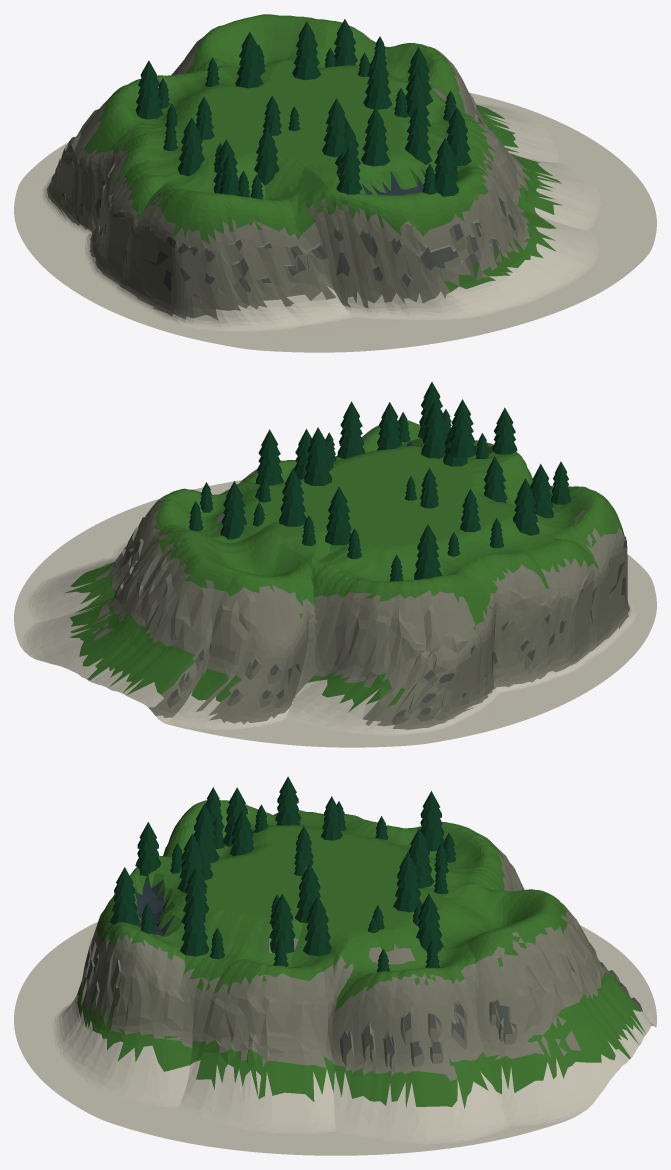
The model's file is Insel_03.fbx.
3 renders of one model, top to bottom at view 1: azimuth 30°, elevation 25°; view 2: azimuth 150°, elevation 25°; view 3: azimuth 270°, elevation 25°, orthographic. The views are drawn at different scales.
Visible parts, largest first — view 1: Cube.002; view 2: Cube.002; view 3: Cube.002.
Part boxes in pixels (x1=…): Cube.002: x1=14, y1=14, x2=656, y2=352; Cube.002: x1=14, y1=382, x2=656, y2=747; Cube.002: x1=14, y1=776, x2=656, y2=1155.
Bounding box in the file's own units: 915 × 291 × 915.
